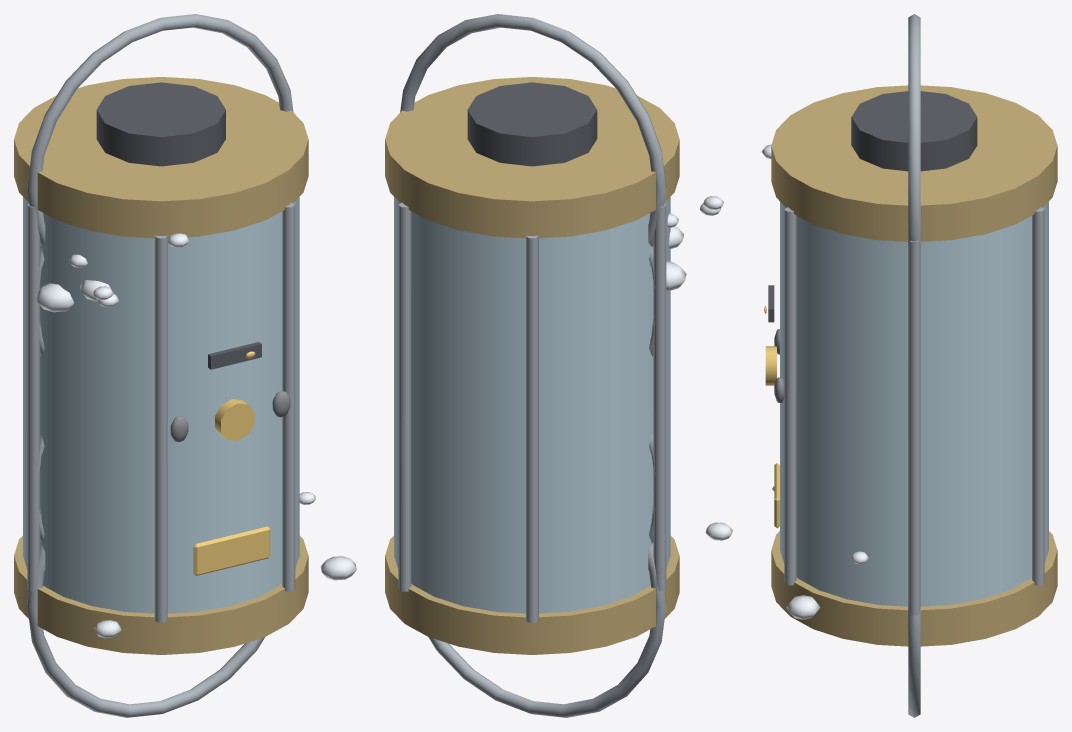
The model's file is restorer_cylinder.glb.
3 views of the same model, side by side, from view 1: azimuth 30°, elevation 25°; view 2: azimuth 150°, elevation 25°; view 3: azimuth 270°, elevation 25° (orthographic). The views are drawn at different scales.
Parts seen in each view (by area): view 1: rs_glass, rs_brass.001, rs_brass, rs_dark, rs_steel.001, rs_steel.007, rs_steel.002, rs_steel.006, rs_steel, rs_label.001, rs_label, rs_dark.001 (+2 smaller); view 2: rs_glass, rs_brass.001, rs_brass, rs_dark, rs_steel.001, rs_steel.004, rs_steel.006, rs_steel.005, rs_steel; view 3: rs_glass, rs_brass.001, rs_brass, rs_dark, rs_steel.004, rs_steel.002, rs_steel.003, rs_steel.001, rs_steel, rs_frost.021.
Boxes of the visible parts, x1,y1,x2,y2 form: rs_glass: (23, 197, 299, 613); rs_brass.001: (14, 77, 308, 238); rs_brass: (14, 536, 308, 654); rs_dark: (96, 82, 225, 166); rs_steel.001: (27, 14, 293, 246); rs_steel.007: (154, 235, 167, 622); rs_steel.002: (282, 202, 295, 591); rs_steel.006: (27, 204, 40, 591); rs_steel: (27, 543, 264, 717); rs_label.001: (193, 526, 270, 575); rs_label: (215, 399, 254, 440); rs_dark.001: (208, 342, 261, 369); rs_glass: (394, 197, 670, 613); rs_brass.001: (385, 77, 679, 238); rs_brass: (385, 536, 679, 654); rs_dark: (467, 82, 597, 166); rs_steel.001: (400, 14, 666, 246); rs_steel.004: (398, 202, 411, 591); rs_steel.006: (653, 204, 666, 591); rs_steel.005: (526, 235, 538, 622); rs_steel: (428, 543, 666, 717); rs_glass: (780, 201, 1048, 606); rs_brass.001: (771, 85, 1057, 241); rs_brass: (771, 531, 1057, 646); rs_dark: (851, 91, 977, 171); rs_steel.004: (1032, 207, 1044, 585); rs_steel.002: (784, 207, 796, 585); rs_steel.003: (908, 240, 920, 615); rs_steel.001: (908, 14, 920, 246); rs_steel: (908, 607, 920, 717); rs_frost.021: (786, 595, 820, 619).
Bounding box in the file's own units: 1.08 × 2.61 × 1.03.
